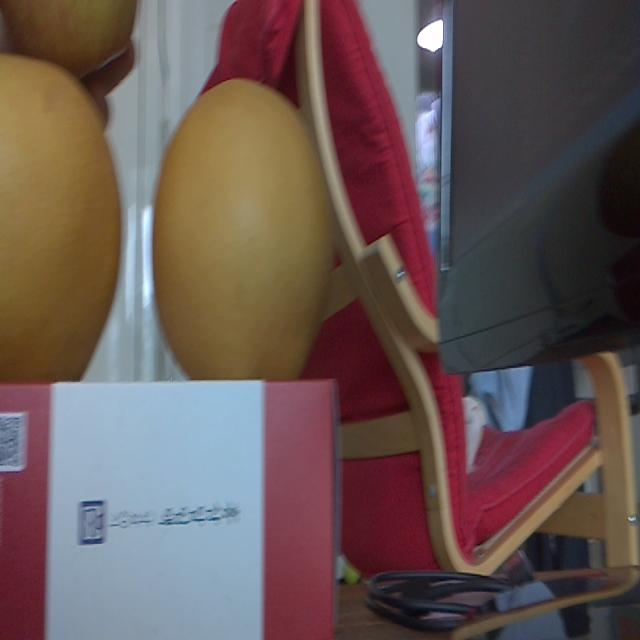pear: (152, 79, 332, 380), (0, 53, 128, 379)
